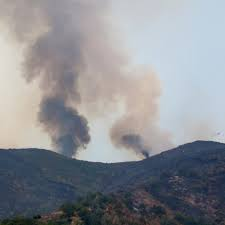smoke: (23, 2, 159, 154)
